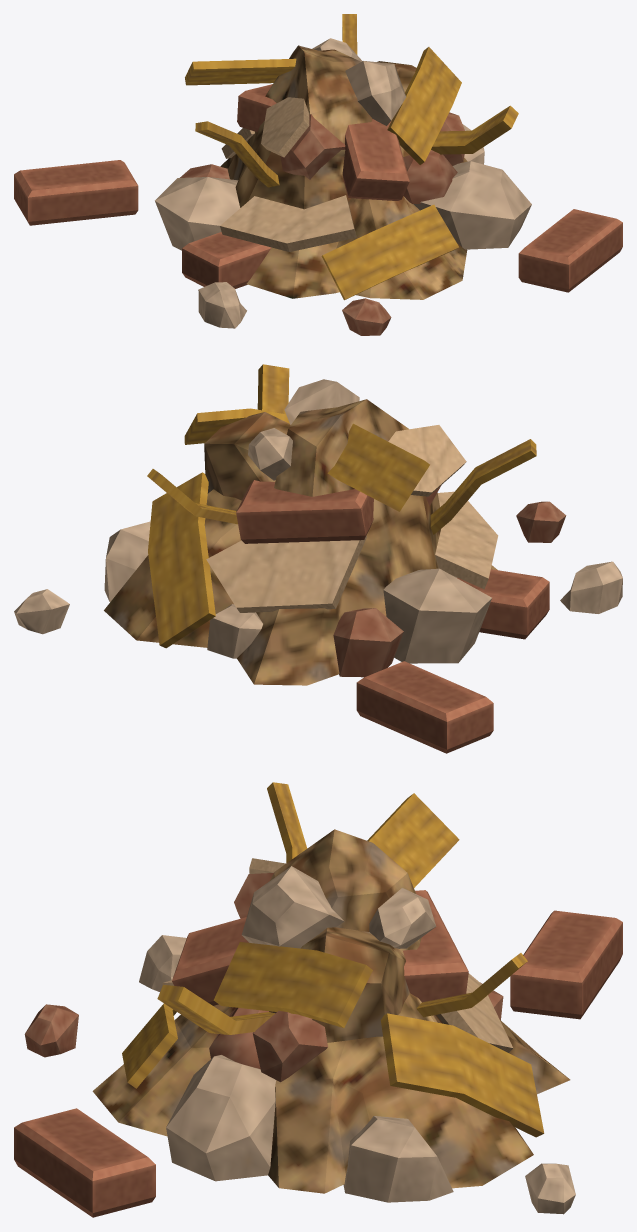
File: JunkMountain.fbx
3 renders of one model, top to bottom at view 1: azimuth 30°, elevation 25°; view 2: azimuth 150°, elevation 25°; view 3: azimuth 270°, elevation 25°, orthographic. The views are drawn at different scales.
Parts seen in each view (by area): view 1: JunkMountain; view 2: JunkMountain; view 3: JunkMountain.
Part boxes in pixels (box(x1,y1,x2,y2)): JunkMountain: box(14, 14, 622, 335); JunkMountain: box(14, 364, 622, 753); JunkMountain: box(14, 782, 622, 1217).
Size of the model in its own units: 2 by 0.8583 by 1.91.
